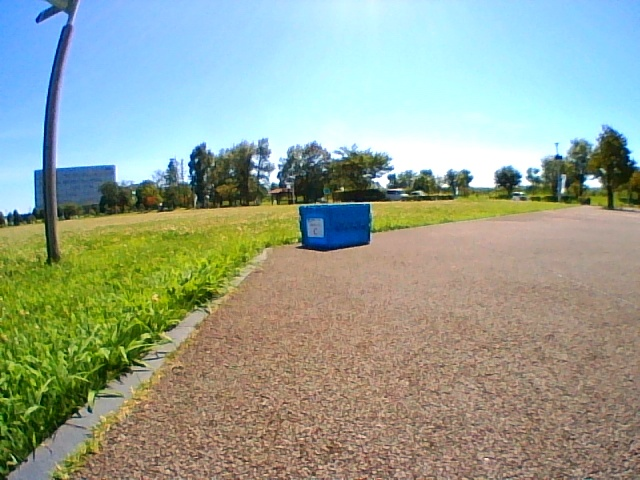blue_box: (299, 204, 371, 246)
tag_c: (307, 218, 322, 237)
